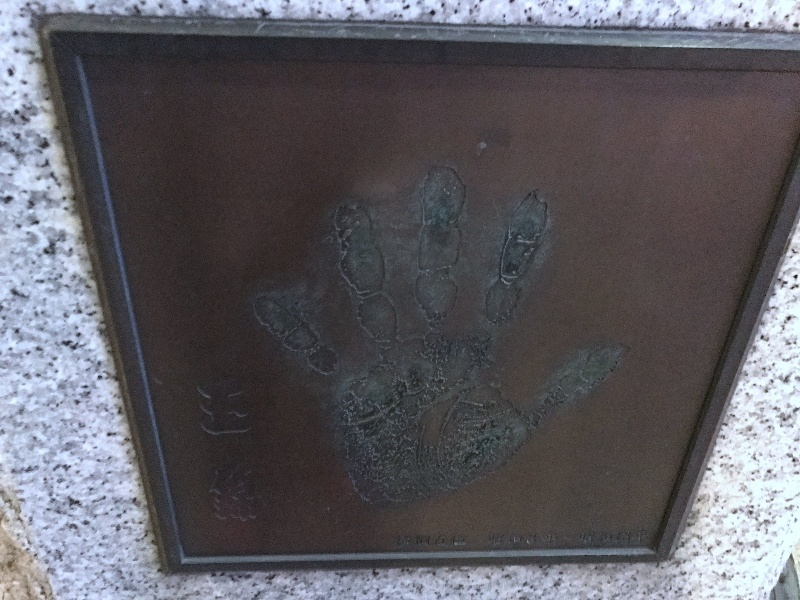text: (209, 381, 224, 521), (225, 381, 240, 521), (241, 381, 256, 521), (197, 381, 208, 521), (257, 381, 259, 521), (497, 534, 512, 547), (513, 534, 528, 547), (529, 534, 544, 547), (401, 536, 416, 548), (417, 536, 432, 548), (433, 536, 448, 548), (449, 536, 464, 548), (593, 533, 608, 545), (609, 533, 624, 545), (625, 533, 640, 545), (579, 533, 592, 545), (545, 534, 554, 547), (488, 534, 496, 547), (396, 536, 400, 548), (641, 533, 645, 545), (465, 536, 467, 548)
